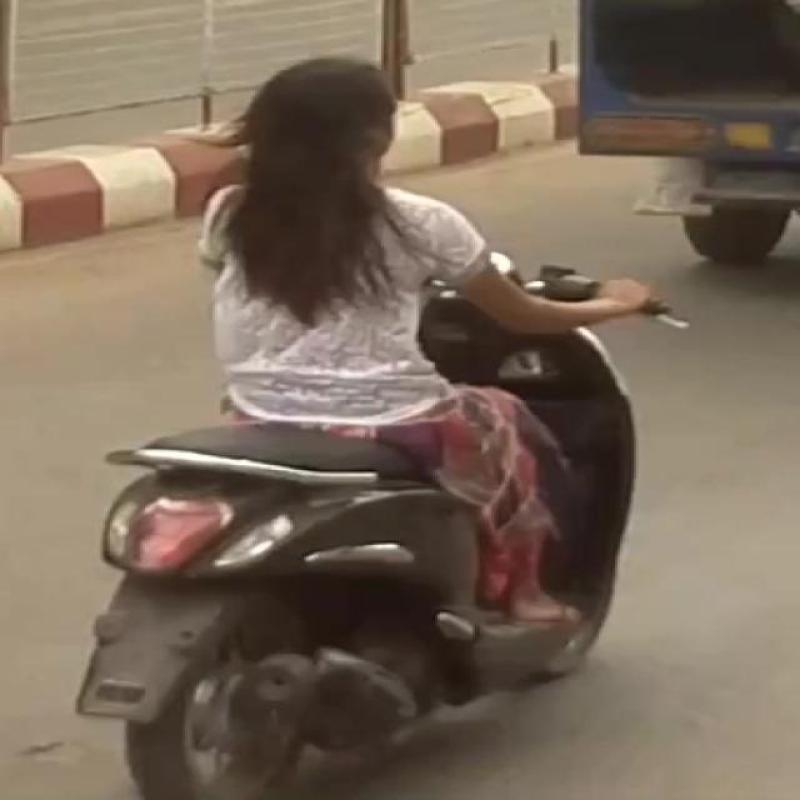nohelmet: (239, 45, 450, 191)
